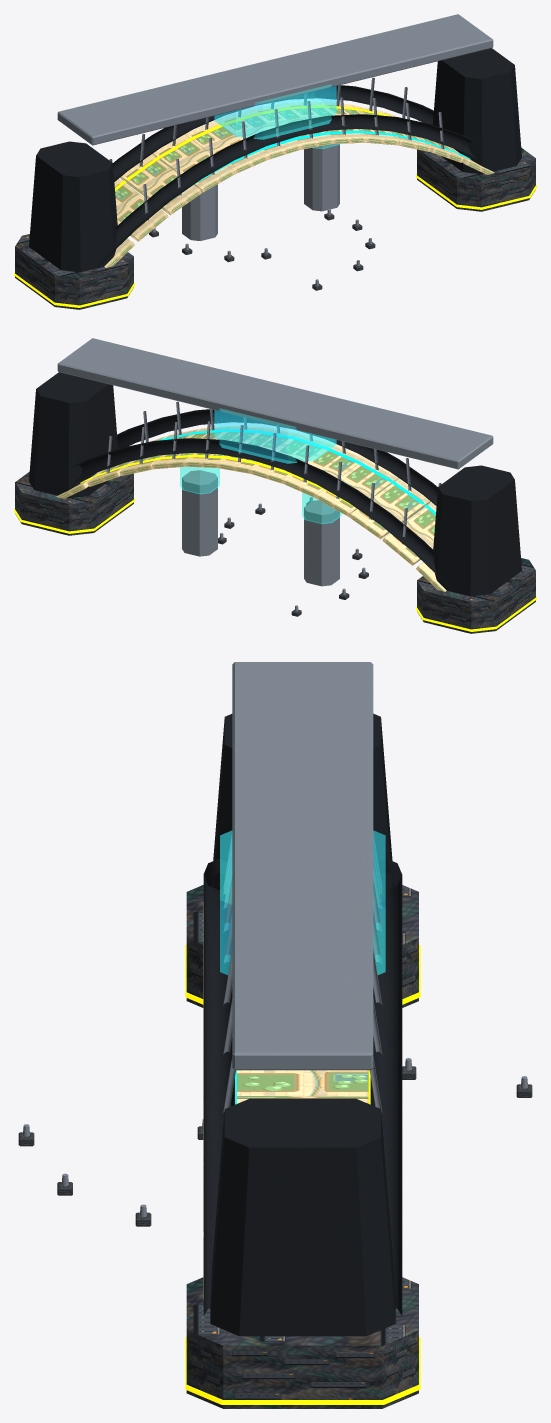
Rendered from interior_setpiece_01_r1_03.glb.
3 renders of one model, top to bottom at view 1: azimuth 30°, elevation 25°; view 2: azimuth 150°, elevation 25°; view 3: azimuth 270°, elevation 25°, orthographic. The views are drawn at different scales.
Parts seen in each view (by area): view 1: Setpiece01_C03_gunmetal, Setpiece01_C03_steel_machined, Setpiece01_C03_promenade_paving, Setpiece01_C03_cliff_basalt, Setpiece01_C03_glass_cyan, Setpiece01_C03_led_amber, Setpiece01_C03_led_cyan; view 2: Setpiece01_C03_gunmetal, Setpiece01_C03_steel_machined, Setpiece01_C03_promenade_paving, Setpiece01_C03_cliff_basalt, Setpiece01_C03_glass_cyan, Setpiece01_C03_glass_emerald, Setpiece01_C03_led_amber, Setpiece01_C03_led_cyan; view 3: Setpiece01_C03_gunmetal, Setpiece01_C03_steel_machined, Setpiece01_C03_cliff_basalt, Setpiece01_C03_promenade_paving, Setpiece01_C03_glass_cyan, Setpiece01_C03_led_amber.
Boxes of the visible parts, bbox=[...] form: Setpiece01_C03_gunmetal: bbox=[29, 48, 521, 272]; Setpiece01_C03_steel_machined: bbox=[57, 14, 493, 285]; Setpiece01_C03_promenade_paving: bbox=[104, 102, 494, 267]; Setpiece01_C03_cliff_basalt: bbox=[15, 148, 535, 309]; Setpiece01_C03_glass_cyan: bbox=[214, 84, 336, 139]; Setpiece01_C03_led_amber: bbox=[14, 105, 536, 307]; Setpiece01_C03_led_cyan: bbox=[177, 130, 470, 196]; Setpiece01_C03_gunmetal: bbox=[29, 372, 521, 596]; Setpiece01_C03_steel_machined: bbox=[57, 338, 493, 611]; Setpiece01_C03_promenade_paving: bbox=[56, 426, 446, 591]; Setpiece01_C03_cliff_basalt: bbox=[15, 472, 535, 633]; Setpiece01_C03_glass_cyan: bbox=[214, 408, 336, 463]; Setpiece01_C03_glass_emerald: bbox=[180, 466, 341, 523]; Setpiece01_C03_led_amber: bbox=[14, 454, 536, 631]; Setpiece01_C03_led_cyan: bbox=[158, 429, 435, 515]; Setpiece01_C03_gunmetal: bbox=[203, 713, 402, 1336]; Setpiece01_C03_steel_machined: bbox=[23, 662, 527, 1216]; Setpiece01_C03_cliff_basalt: bbox=[18, 885, 532, 1408]; Setpiece01_C03_promenade_paving: bbox=[203, 902, 368, 1299]; Setpiece01_C03_glass_cyan: bbox=[220, 830, 385, 974]; Setpiece01_C03_led_amber: bbox=[185, 945, 420, 1404].
Size of the model in its own units: 67.2 by 21.1 by 30.99.
Materials: 8 (8 with a texture image).
